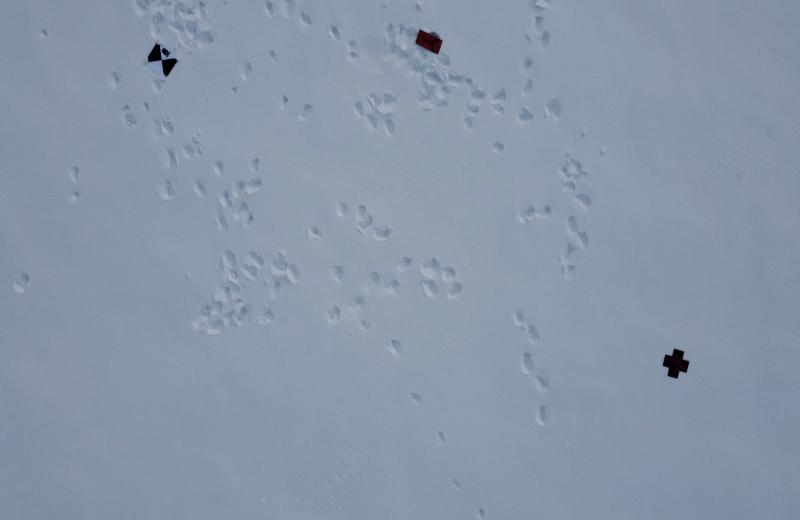Cross: (662, 345, 692, 382)
Rectangle: (412, 28, 444, 58)
